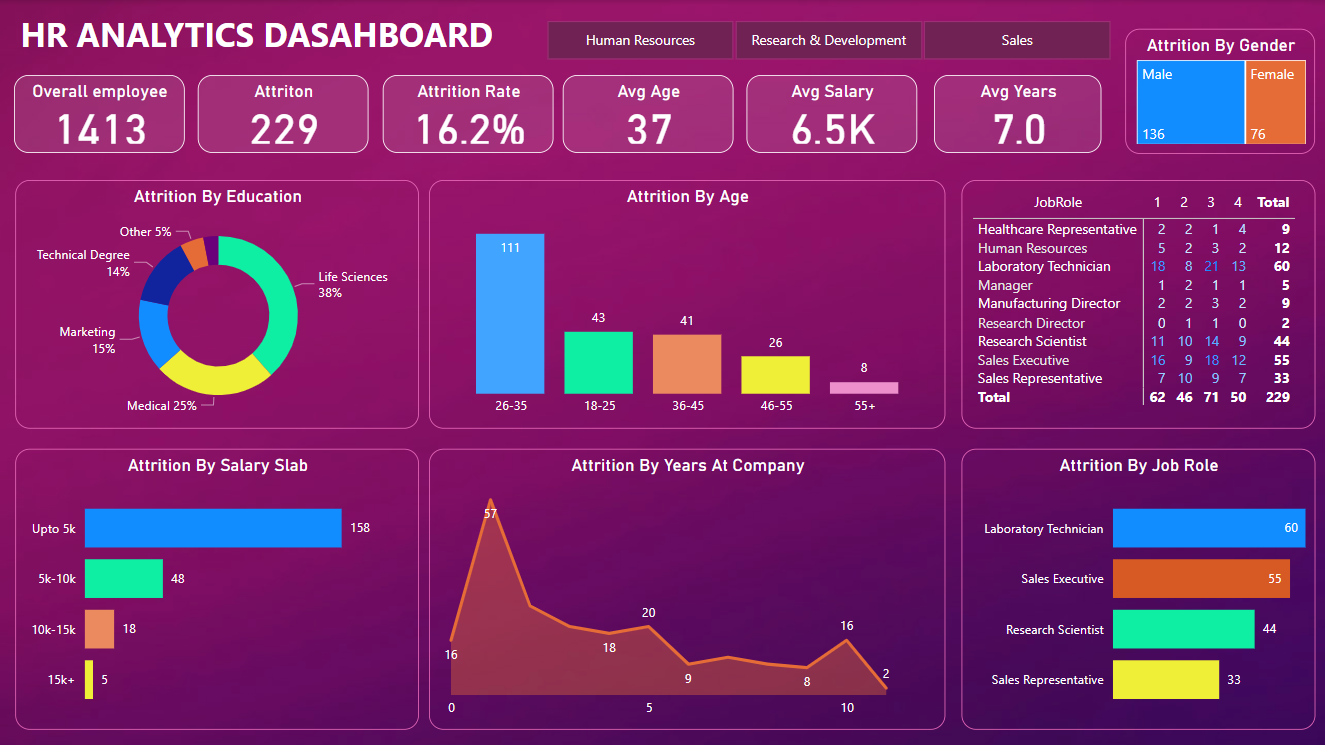

What the dashboard file says about the page in this screenshot:
{"tool":"powerbi","page":{"name":"Page 1","canvas":[1280,720],"ordinal":0},"visuals":[{"type":"card","title":"Overall employee","fields":{"Values":["CountNonNull(HR_Analytics.EmpID)"]},"box":[14.6,72.2,164.7,75.5],"z":0},{"type":"card","title":"Attriton","fields":{"Values":["Sum(HR_Analytics.AttritionCount)"]},"box":[191.6,72.2,164.7,75.5],"z":1000},{"type":"card","title":"Attrition Rate","fields":{"Values":["HR_Analytics.AttritionRate"]},"box":[370,72.2,164.7,75.5],"z":2000},{"type":"card","title":"Avg Age","fields":{"Values":["Avg(HR_Analytics.Age)"]},"box":[544.3,72.2,164.7,75.5],"z":3000},{"type":"card","title":"Avg Salary","fields":{"Values":["Avg(HR_Analytics.MonthlyIncome)"]},"box":[721.3,72.2,164.7,75.5],"z":4000},{"type":"card","title":"Avg Years","fields":{"Values":["Avg(HR_Analytics.YearsAtCompany)"]},"box":[902.4,72.2,161.9,75.5],"z":5000},{"type":"donutChart","title":" Attrition By Education","fields":{"Category":["HR_Analytics.EducationField"],"Y":["Sum(HR_Analytics.AttritionCount)"]},"box":[15.7,173.7,389.7,240.1],"z":6000},{"type":"columnChart","title":" Attrition By Age","fields":{"Category":["HR_Analytics.AgeGroup"],"Y":["Sum(HR_Analytics.AttritionCount)"]},"box":[415,173.7,498.3,240.1],"z":7000},{"type":"pivotTable","fields":{"Rows":["HR_Analytics.JobRole"],"Columns":["HR_Analytics.JobSatisfaction"],"Values":["Sum(HR_Analytics.AttritionCount)"]},"box":[929,173.7,341.4,240.1],"z":8000},{"type":"barChart","title":" Attrition By Salary Slab","fields":{"Category":["HR_Analytics.SalarySlab"],"Y":["Sum(HR_Analytics.AttritionCount)"]},"box":[15.7,433.1,389.7,271.4],"z":9000},{"type":"barChart","title":" Attrition By Job Role","fields":{"Category":["HR_Analytics.JobRole"],"Y":["Sum(HR_Analytics.AttritionCount)"]},"box":[929,433.1,341.4,271.4],"z":10000},{"type":"areaChart","title":" Attrition By Years At Company","fields":{"Category":["HR_Analytics.YearsAtCompany"],"Y":["Sum(HR_Analytics.AttritionCount)"]},"box":[415,433.1,498.3,271.4],"z":11000},{"type":"treemap","title":" Attrition By Gender","fields":{"Group":["HR_Analytics.Gender"],"Values":["Sum(HR_Analytics.AttritionCount)"]},"box":[1087,27.7,183.4,120.6],"z":12000},{"type":"slicer","fields":{"Values":["HR_Analytics.Department"]},"box":[503.1,13.3,593.6,50.7],"z":13000},{"type":"textbox","box":[15.1,5.5,520.1,65.9],"z":14000}]}

Visuals, with their boxes in screenshot pixels (x1, y1, x2, y2), scaled from the page's 1280x720 canvas onto the 1325x745 screenshot:
"Overall employee" card: <bbox>15, 75, 186, 153</bbox>
"Attriton" card: <bbox>198, 75, 369, 153</bbox>
"Attrition Rate" card: <bbox>383, 75, 553, 153</bbox>
"Avg Age" card: <bbox>563, 75, 734, 153</bbox>
"Avg Salary" card: <bbox>747, 75, 917, 153</bbox>
"Avg Years" card: <bbox>934, 75, 1102, 153</bbox>
" Attrition By Education" donutChart: <bbox>16, 180, 420, 428</bbox>
" Attrition By Age" columnChart: <bbox>430, 180, 945, 428</bbox>
pivotTable - HR_Analytics.JobRole x HR_Analytics.JobSatisfaction: <bbox>962, 180, 1315, 428</bbox>
" Attrition By Salary Slab" barChart: <bbox>16, 448, 420, 729</bbox>
" Attrition By Job Role" barChart: <bbox>962, 448, 1315, 729</bbox>
" Attrition By Years At Company" areaChart: <bbox>430, 448, 945, 729</bbox>
" Attrition By Gender" treemap: <bbox>1125, 29, 1315, 153</bbox>
slicer - HR_Analytics.Department: <bbox>521, 14, 1135, 66</bbox>
textbox: <bbox>16, 6, 554, 74</bbox>
